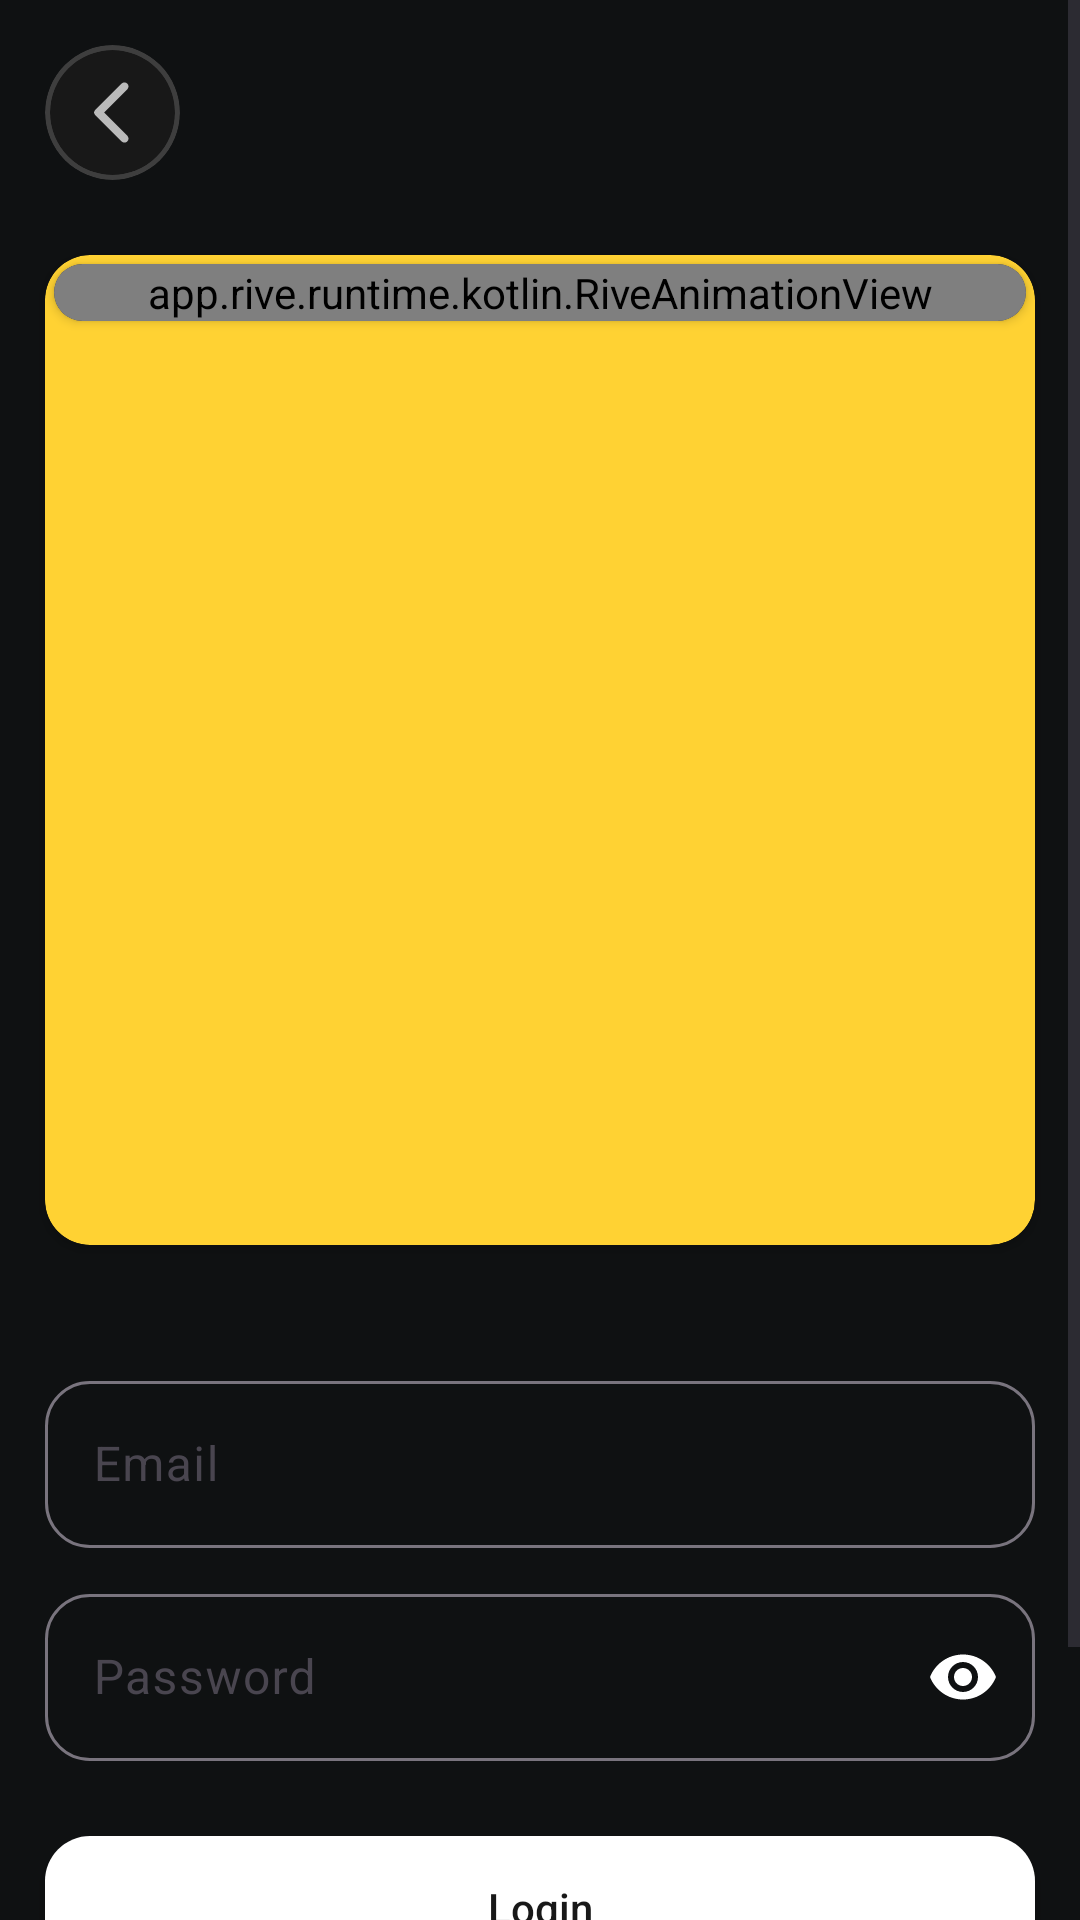

Screen size 1080 × 1920. Icon name, then its box in pixels as (x1, y1, x2, y2):
back: (94, 82, 129, 143)
